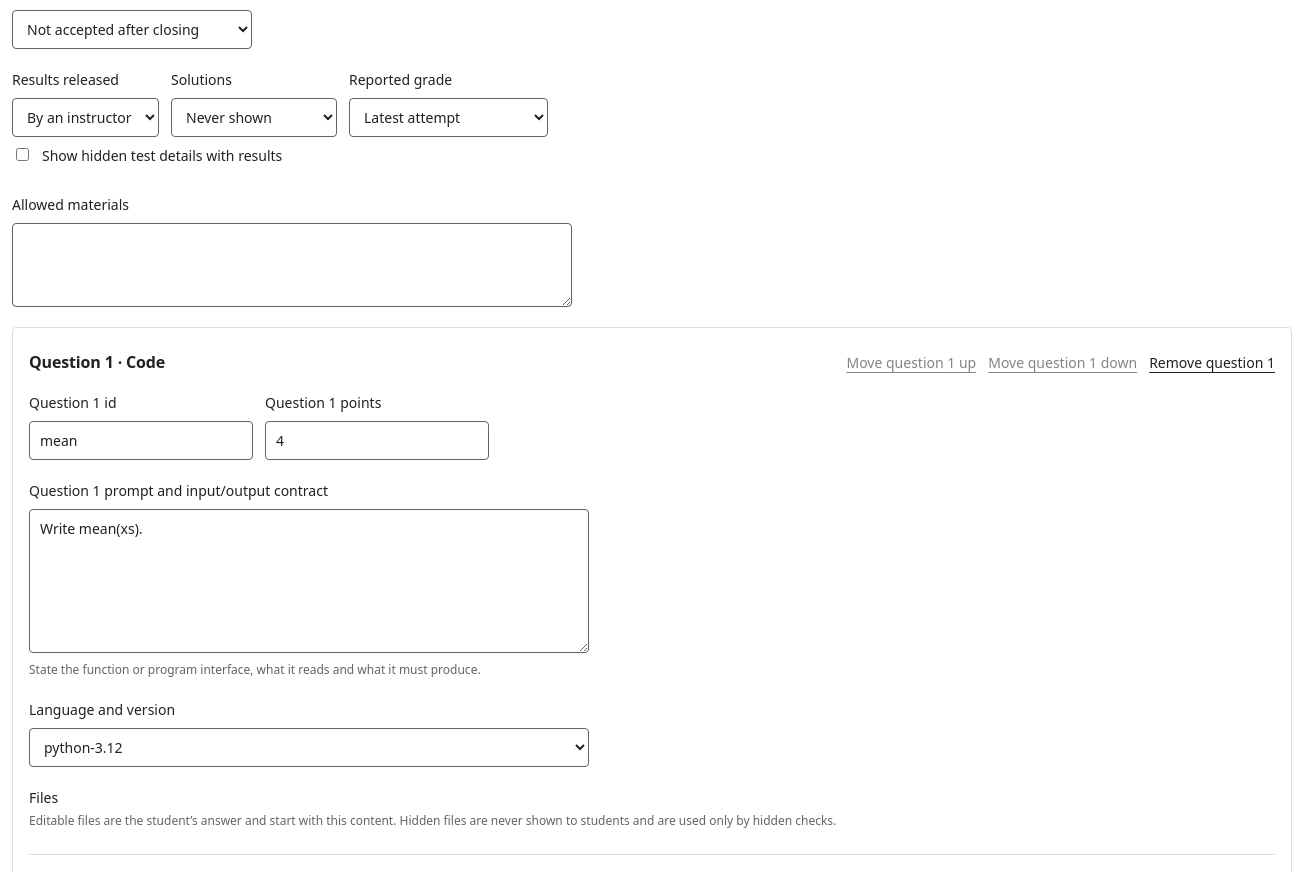
Scenario: test editor › keeps the question being edited while its id changes
The image size is (1292, 872).
(page scrolled)
Type "2" into the field labelled "Question 1 id".
click(141, 440); type("2")  # box [29,421,253,460]
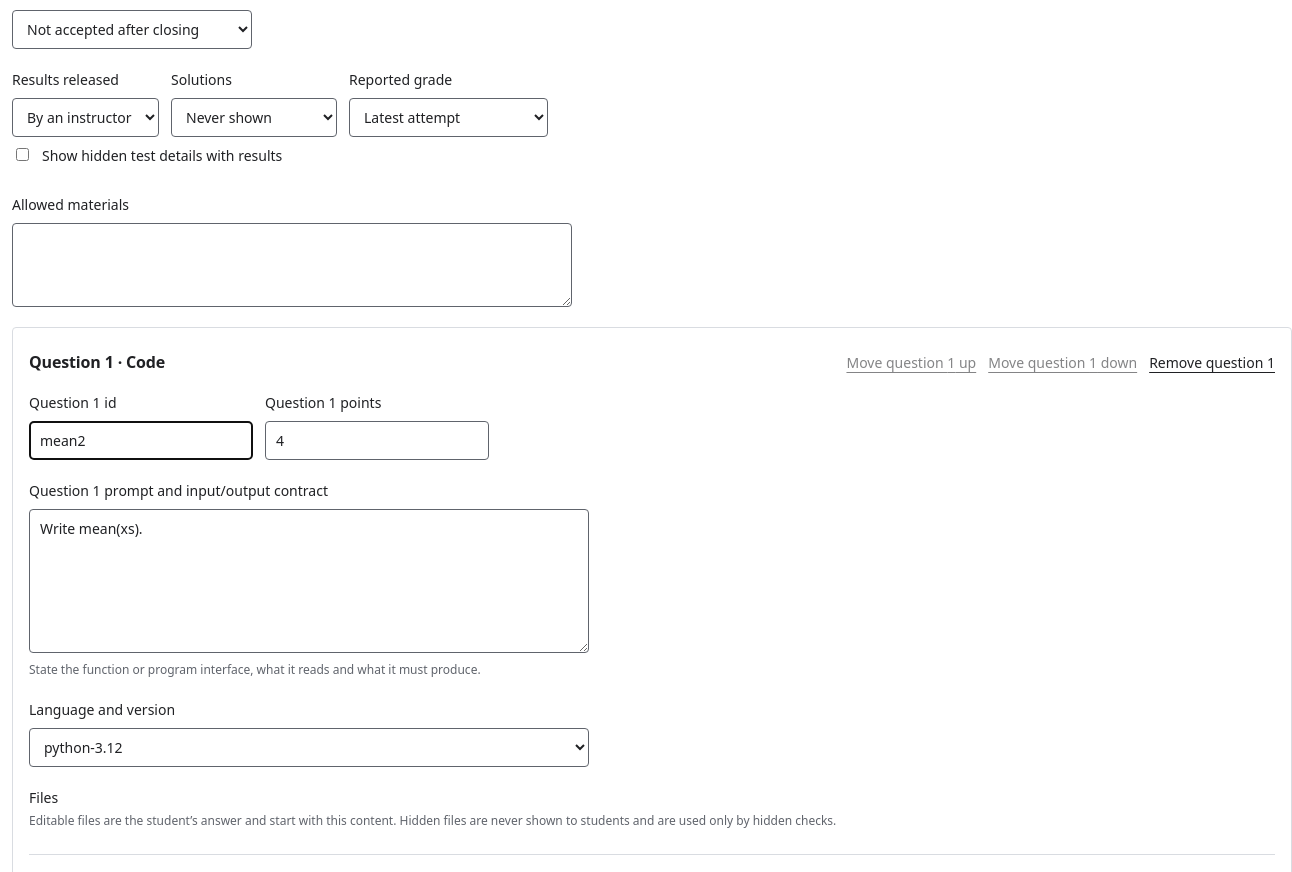
Type "x" into the field labelled "Question 1 id".
click(141, 440); type("x")  # box [29,421,253,460]
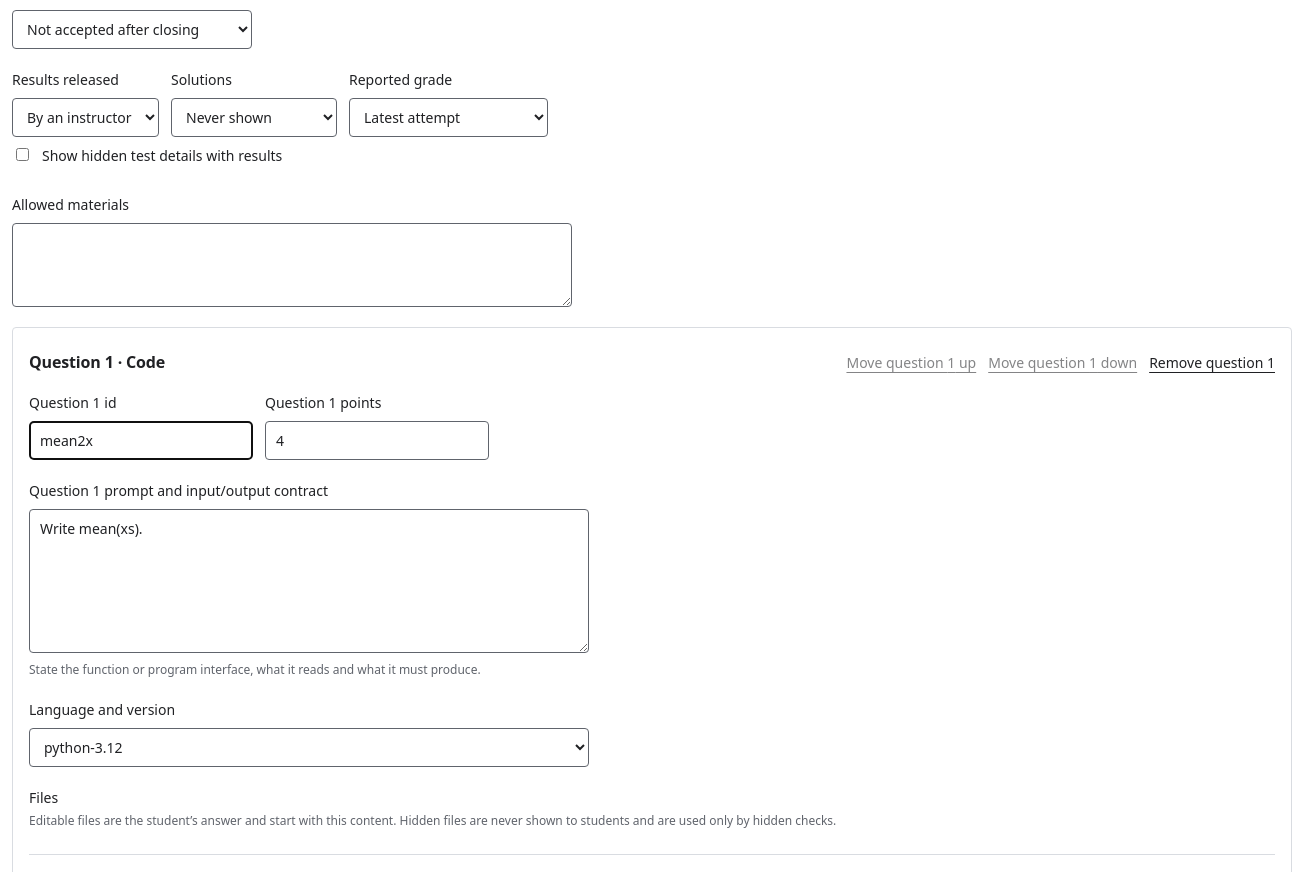
Result: the field labelled "Question 1 id" holds "mean2x" at [29,421,253,460]
